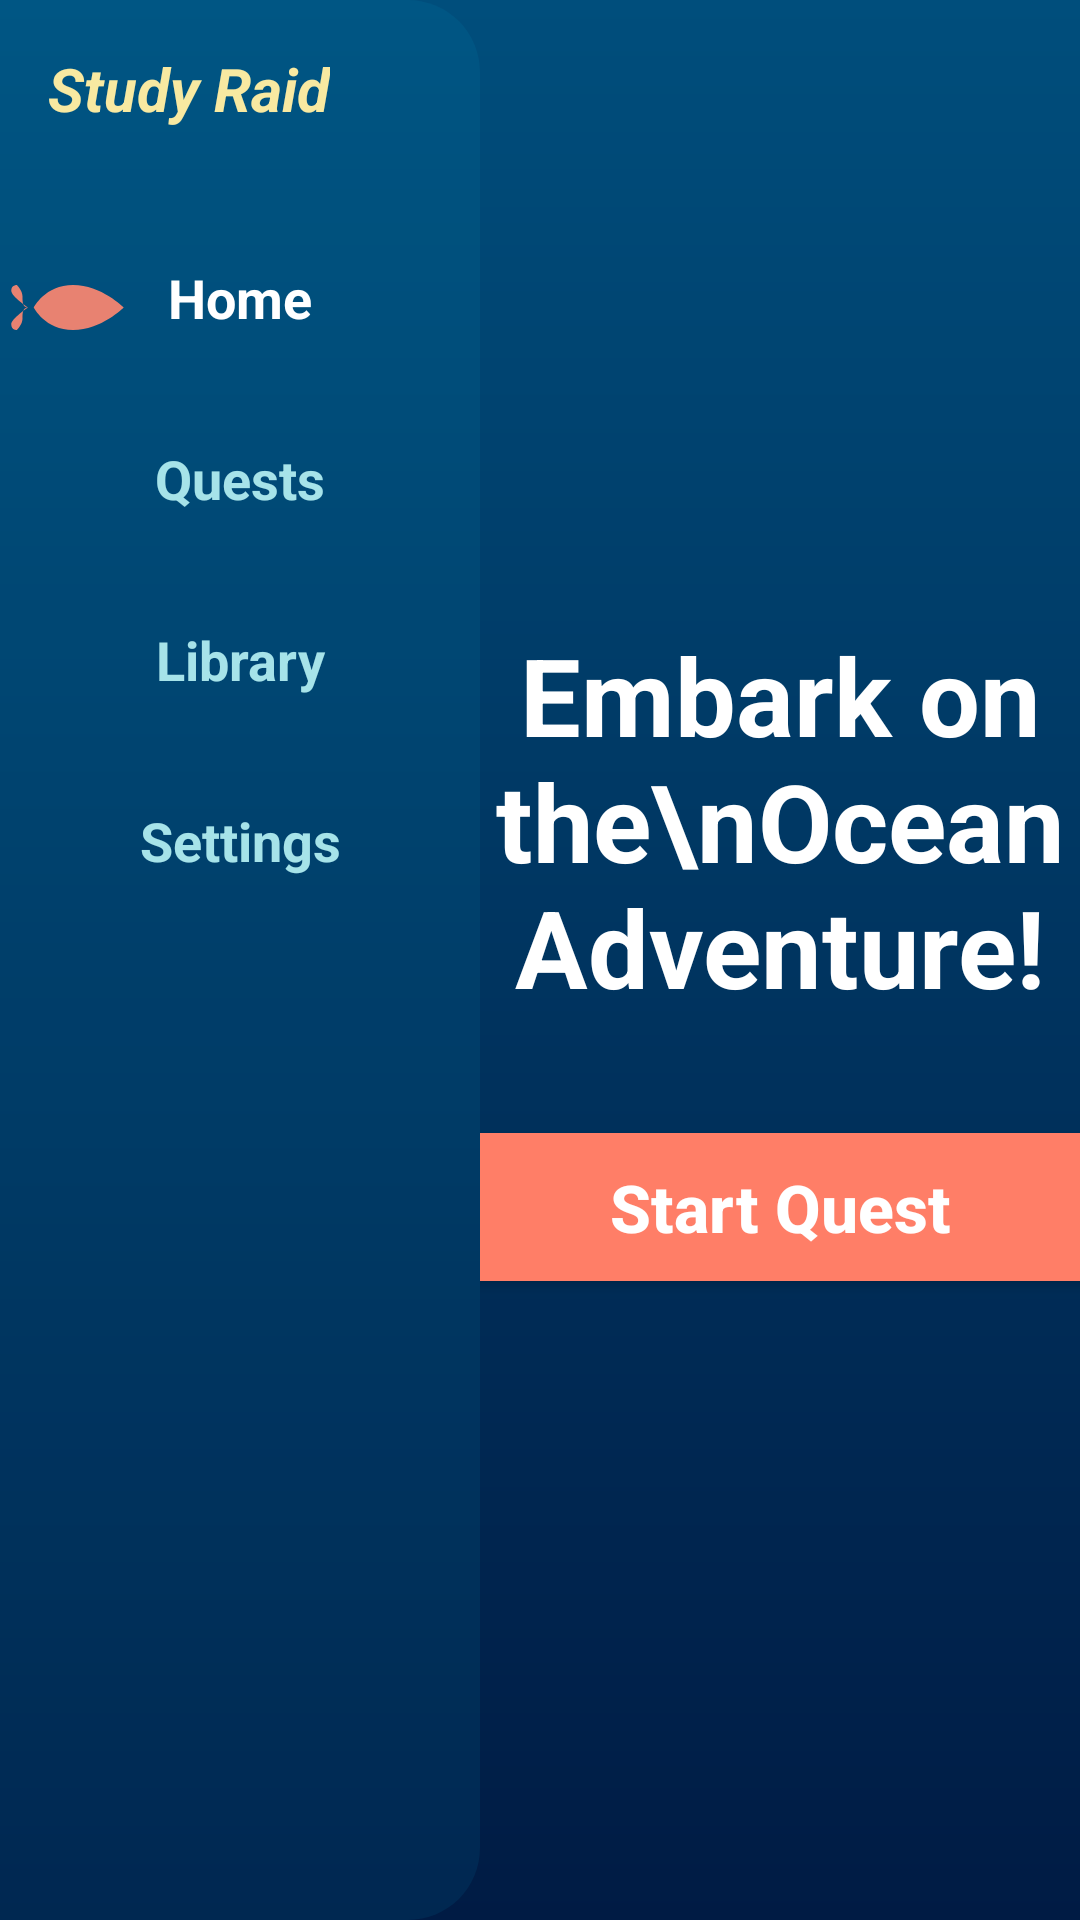

Icons on this 1080px×1920px Android screen, each with the point to tap as (x,y):
Swimming Fish: (67,307)
